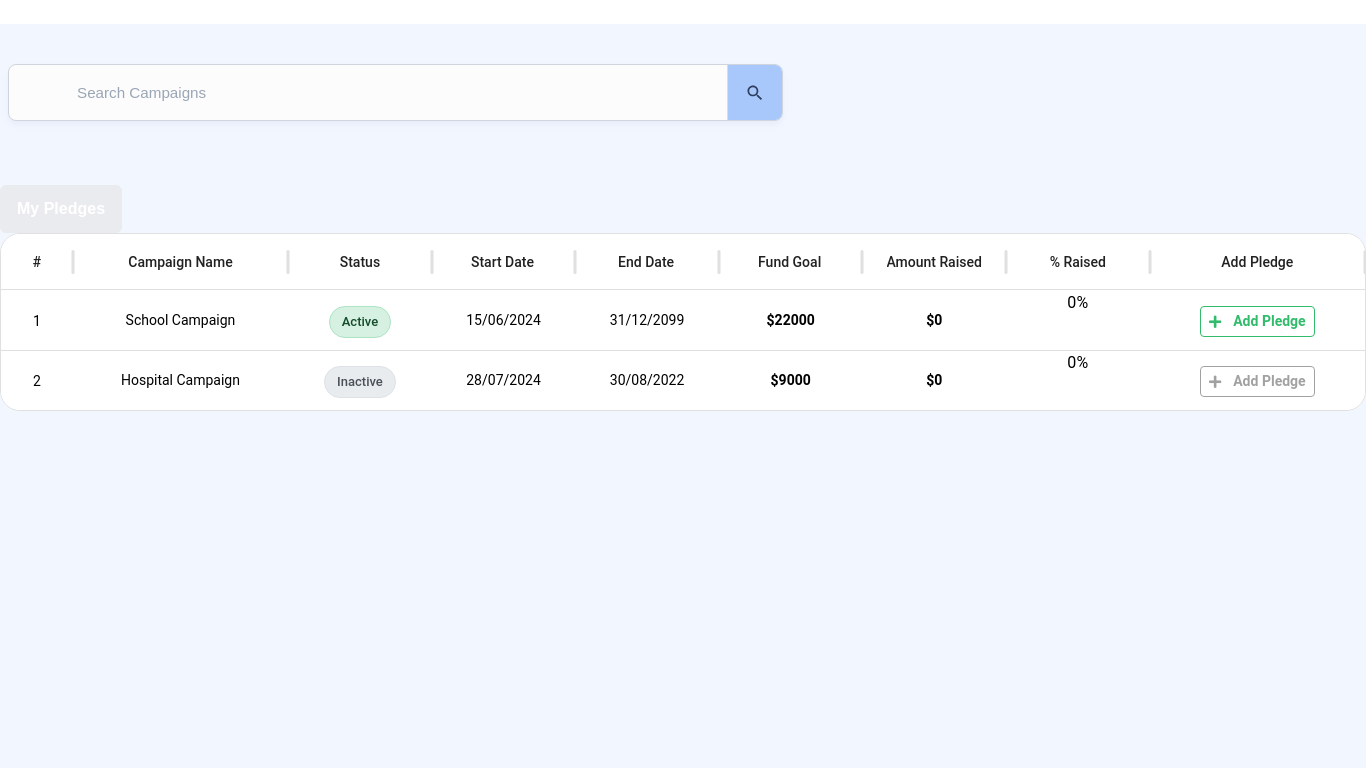
it: Testing User Campaigns Screen › Opens pledge modal when clicking add pledge button for active campaign
Expected: the text "School Campaign" is shown, [126,312,235,328]
What coordinates should you click on to do the following:
click the button with test id "addPledgeBtn" in the row of "School Campaign"
I would click on:
 (1257, 322)
Its box is [1200,306,1315,337].
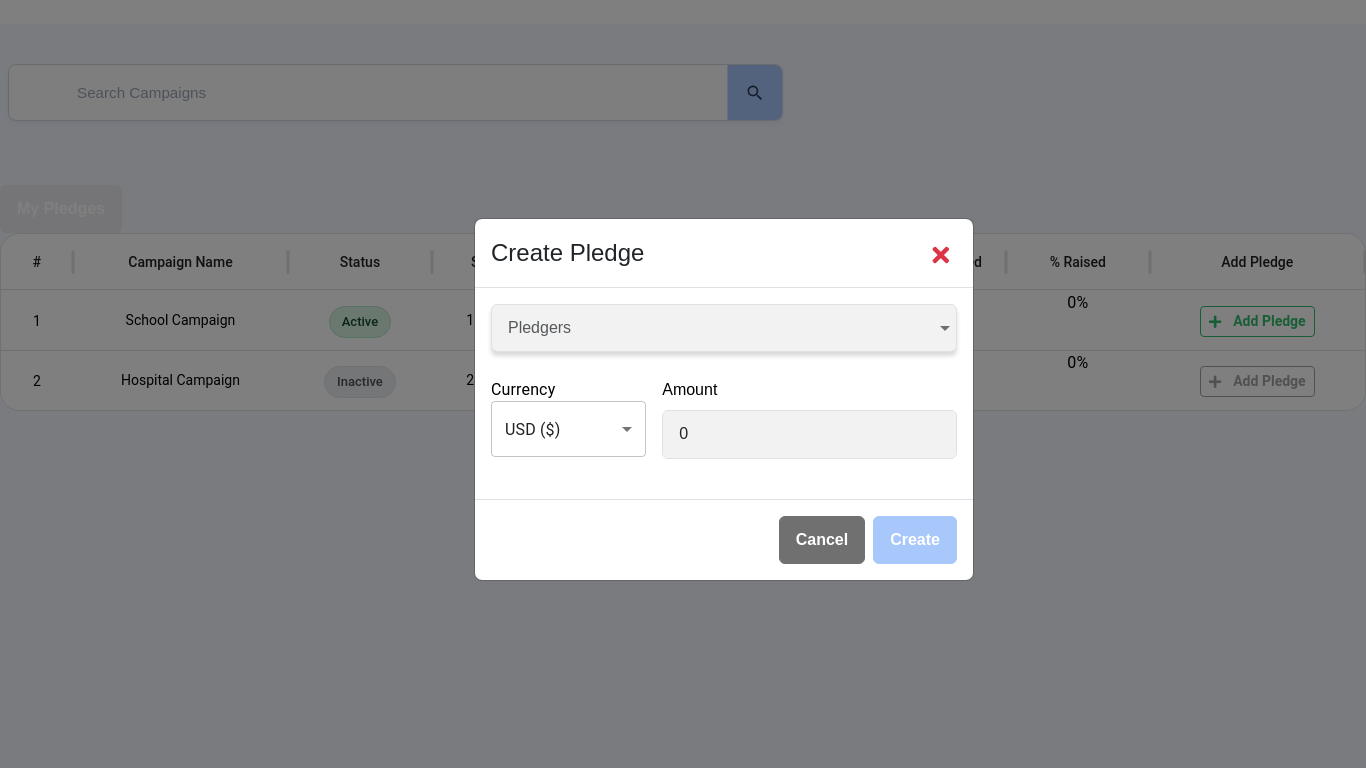
Result: the dialog is shown at [474,218,974,581]
Result: the element with test id "pledgeForm" is shown at [491,304,957,483]
